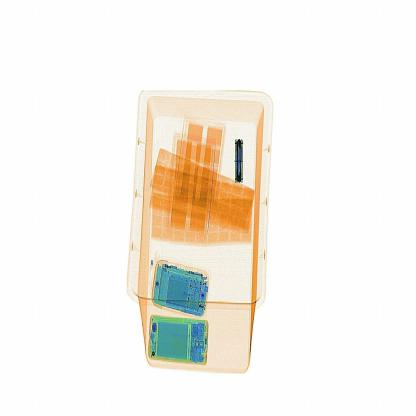scissors: (228, 135, 253, 189)
